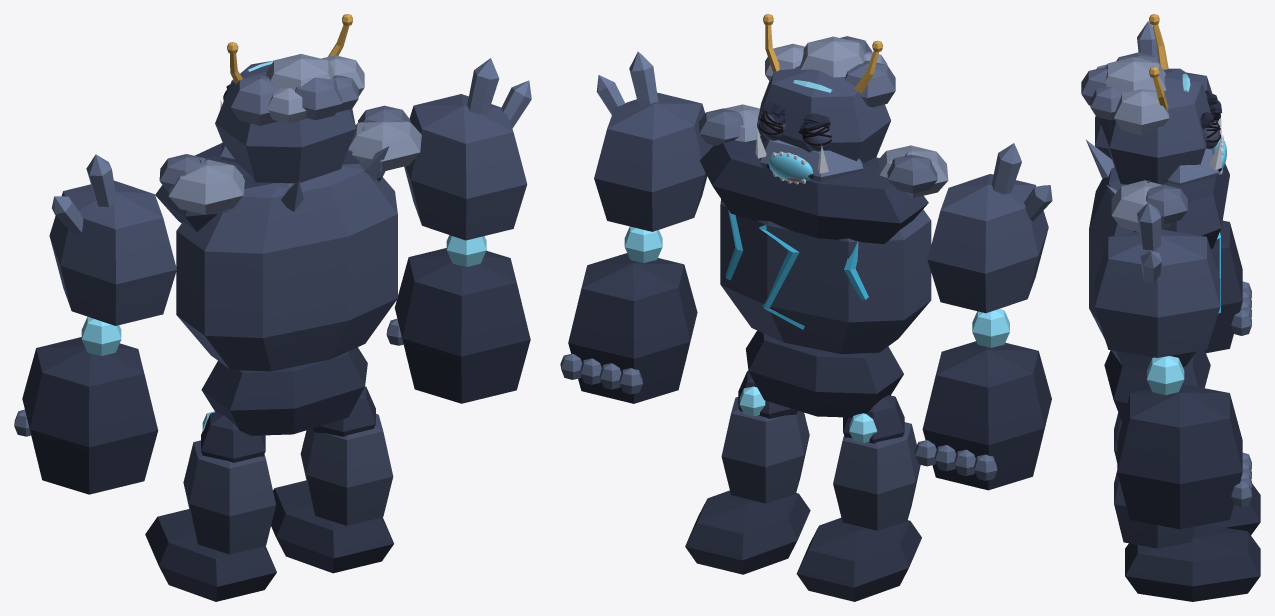
Rendered from keeper_storm_colossus.fbx.
3 views of the same model, side by side, from view 1: azimuth 30°, elevation 25°; view 2: azimuth 150°, elevation 25°; view 3: azimuth 270°, elevation 25° (orthographic). The views are drawn at different scales.
Parts seen in each view (by area): view 1: Body, RightArm_Fist, LeftArm_Fist, RightLeg, Head, LeftArm_Rock, RightArm_Rock, LeftLeg, RightArm_Glow, LeftArm_Glow; view 2: Body, RightArm_Fist, LeftArm_Fist, RightLeg, LeftLeg, LeftArm_Rock, Head, RightArm_Rock, Body_Glow, Head_Face_Attack, RightArm_Glow, LeftArm_Glow (+3 smaller); view 3: LeftArm_Fist, LeftArm_Rock, Head, Body, LeftLeg, RightArm_Fist, RightLeg, LeftArm_Glow, RightArm_Rock, Head_Face_Attack, Head_Face_Gloat, Head_Face_Asleep.
Boxes of the visible parts, x1=… form: Body: x1=155, y1=105, x2=421, y2=435; RightArm_Fist: x1=14, y1=337, x2=158, y2=494; LeftArm_Fist: x1=386, y1=248, x2=530, y2=403; RightLeg: x1=145, y1=412, x2=276, y2=601; Head: x1=215, y1=14, x2=364, y2=183; LeftArm_Rock: x1=404, y1=58, x2=531, y2=240; RightArm_Rock: x1=49, y1=154, x2=176, y2=325; LeftLeg: x1=271, y1=386, x2=393, y2=573; RightArm_Glow: x1=81, y1=316, x2=121, y2=355; LeftArm_Glow: x1=446, y1=235, x2=486, y2=266; Body: x1=699, y1=104, x2=948, y2=417; RightArm_Fist: x1=915, y1=341, x2=1051, y2=490; LeftArm_Fist: x1=560, y1=253, x2=697, y2=403; RightLeg: x1=796, y1=395, x2=921, y2=601; LeftLeg: x1=685, y1=371, x2=810, y2=574; LeftArm_Rock: x1=594, y1=51, x2=713, y2=231; Head: x1=755, y1=14, x2=895, y2=181; RightArm_Rock: x1=927, y1=143, x2=1052, y2=313; Body_Glow: x1=725, y1=210, x2=868, y2=329; Head_Face_Attack: x1=763, y1=102, x2=829, y2=184; RightArm_Glow: x1=972, y1=309, x2=1009, y2=347; LeftArm_Glow: x1=624, y1=226, x2=662, y2=262; LeftArm_Fist: x1=1117, y1=384, x2=1251, y2=529; LeftArm_Rock: x1=1095, y1=202, x2=1220, y2=357; Head: x1=1081, y1=14, x2=1221, y2=185; Body: x1=1086, y1=140, x2=1229, y2=421; LeftLeg: x1=1114, y1=470, x2=1260, y2=601; RightArm_Fist: x1=1204, y1=220, x2=1251, y2=353; RightLeg: x1=1114, y1=412, x2=1260, y2=534; LeftArm_Glow: x1=1147, y1=356, x2=1184, y2=395; RightArm_Rock: x1=1095, y1=21, x2=1212, y2=159; Head_Face_Attack: x1=1200, y1=90, x2=1226, y2=174; Head_Face_Gloat: x1=1201, y1=91, x2=1219, y2=149; Head_Face_Asleep: x1=1203, y1=100, x2=1220, y2=148.
Bounding box in the file's own units: 3350 × 3583 × 1119.
Materials: 8 (1 with a texture image).
